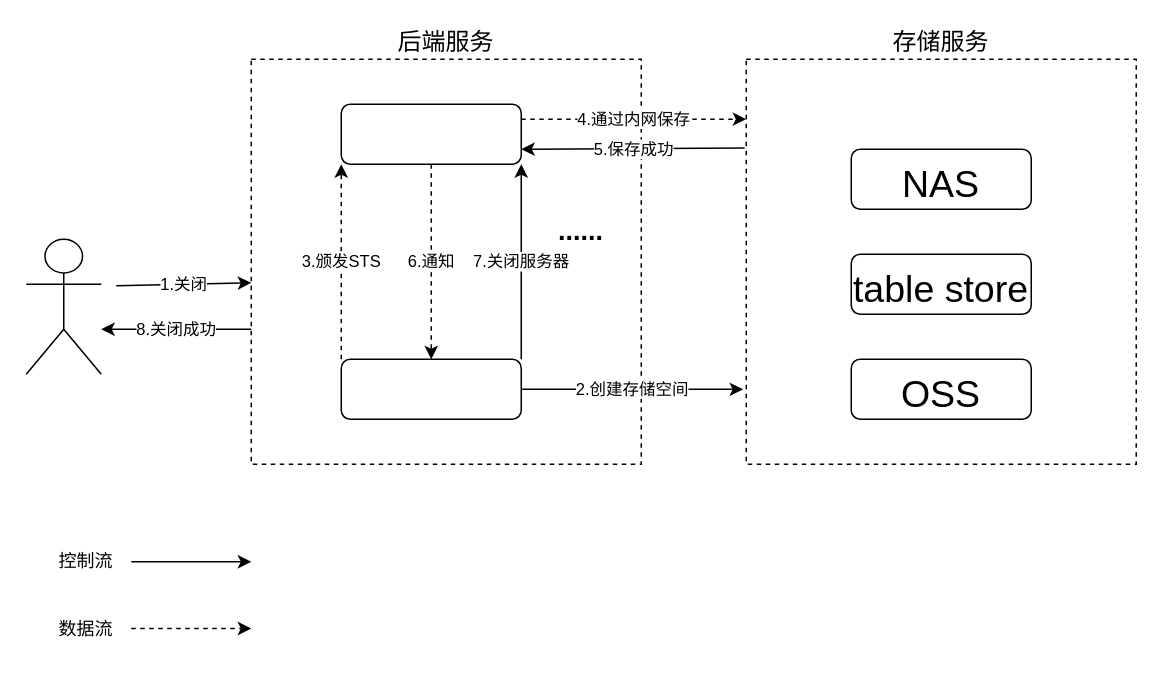
The diagram is 1163 pixels wide and 677 high, and some of its shapes have lost their labels. The centre of each missing label's shape, as x and y in pixels:
manager: (x=430, y=388)
server 1: (x=430, y=133)
